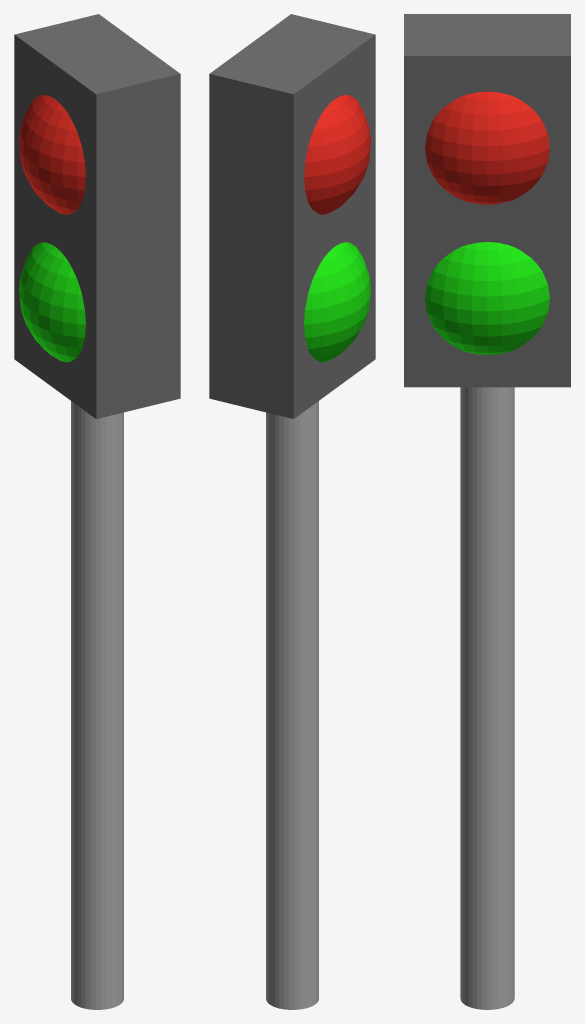
The model's file is trafficlight.fbx.
The picture shows the model from 3 angles, left to right: view 1: azimuth 30°, elevation 25°; view 2: azimuth 150°, elevation 25°; view 3: azimuth 270°, elevation 25°; orthographic projection. The views are drawn at different scales.
Visible parts, largest first — view 1: trafficlight_board, trafficlight_stick, trafficlight_greenlight, trafficlight_redlight; view 2: trafficlight_board, trafficlight_stick, trafficlight_greenlight, trafficlight_redlight; view 3: trafficlight_board, trafficlight_stick, trafficlight_redlight, trafficlight_greenlight.
Part boxes in pixels (box(x1,y1,x2,y2)): trafficlight_board: box(14, 14, 180, 418); trafficlight_stick: box(71, 401, 123, 1009); trafficlight_greenlight: box(19, 242, 85, 362); trafficlight_redlight: box(19, 95, 85, 214); trafficlight_board: box(209, 14, 375, 418); trafficlight_stick: box(266, 401, 318, 1009); trafficlight_greenlight: box(304, 242, 370, 362); trafficlight_redlight: box(304, 95, 370, 214); trafficlight_board: box(404, 14, 570, 387); trafficlight_stick: box(460, 387, 514, 1009); trafficlight_redlight: box(425, 91, 549, 204); trafficlight_greenlight: box(425, 242, 549, 355).
Size of the model in its own units: 200 by 1325 by 208.
